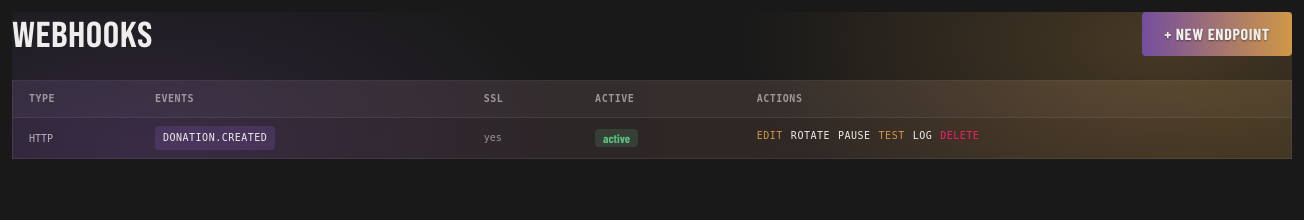
Scenario: AdminDestinations › expands the delivery log
The image size is (1304, 220).
Click the button "log".
click(922, 136)  # box x1=913 y1=126 x2=932 y2=146
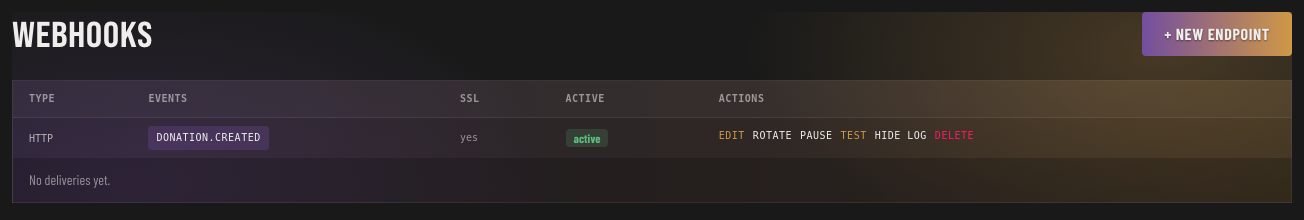
Expected: the text "No deliveries yet." is shown, x1=29 y1=171 x2=110 y2=188
